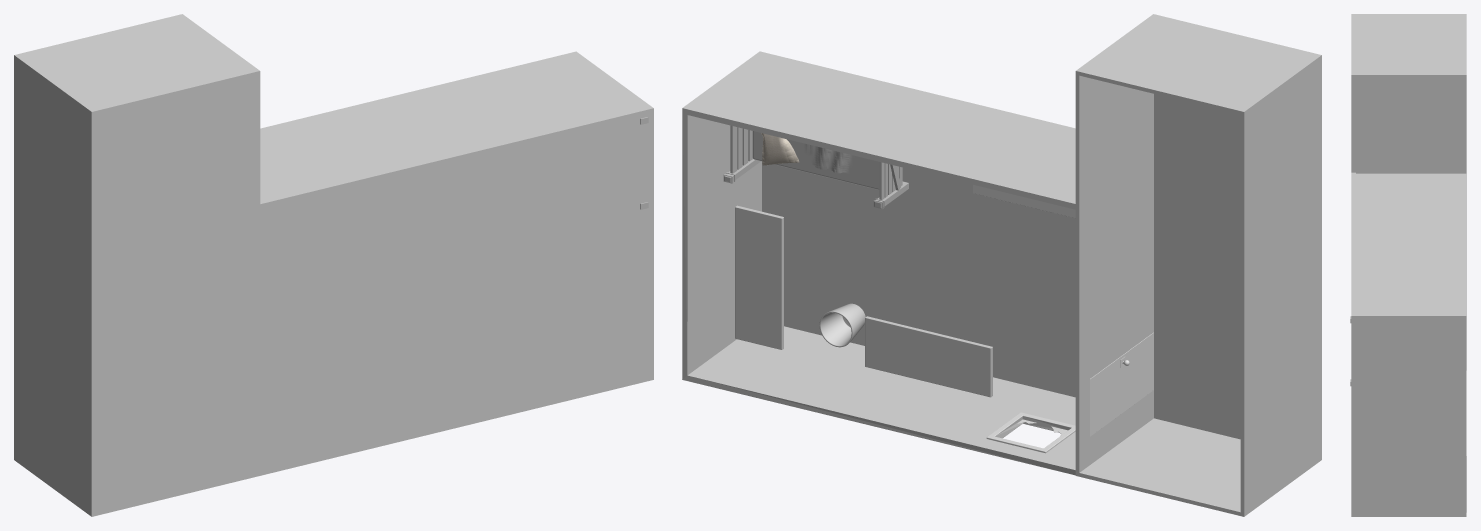
The model's file is ApartmentScene.dae.
3 views of the same model, side by side, from view 1: azimuth 30°, elevation 25°; view 2: azimuth 150°, elevation 25°; view 3: azimuth 270°, elevation 25° (orthographic). The views are drawn at different scales.
Visible parts, largest first — view 1: Room, Hallway; view 2: Room, Hallway, Desk.001, Desk.002, polySurface54, ApartmentDoor, TrashCan, Window, Desk; view 3: Room, Hallway.
Boxes of the visible parts, <box> form: Room: <box>257,51,653,475</box>; Hallway: <box>14,14,260,516</box>; Room: <box>682,51,1075,475</box>; Hallway: <box>1075,14,1321,516</box>; Desk.001: <box>865,316,992,397</box>; Desk.002: <box>735,205,783,349</box>; polySurface54: <box>723,125,908,209</box>; ApartmentDoor: <box>1090,332,1153,436</box>; TrashCan: <box>819,303,865,347</box>; Window: <box>986,412,1075,453</box>; Desk: <box>973,184,1075,218</box>; Room: <box>1351,172,1466,516</box>; Hallway: <box>1351,14,1466,370</box>.
Bounding box in the file's own units: 23.88 × 5.77 × 16.48.
